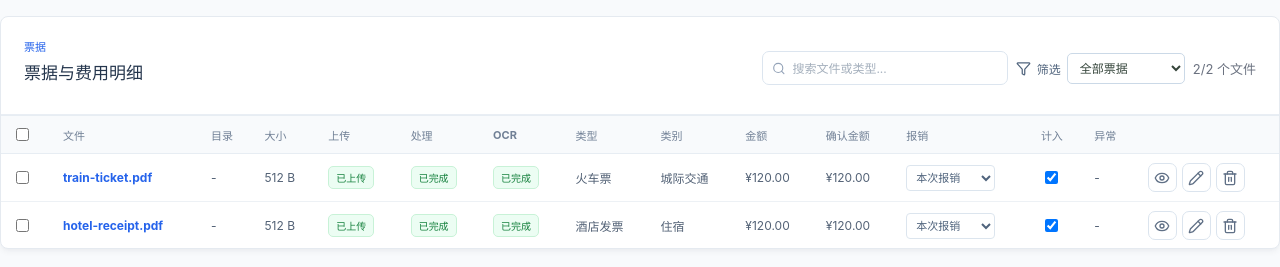
Scenario: DocumentTable reimbursement updates › searches file and invoice metadata before applying the table filter
This screenshot has width=1280, height=267.
Type "hotel" into the field named "搜索票据". click: (895,68)
box: 792,52 -> 998,84
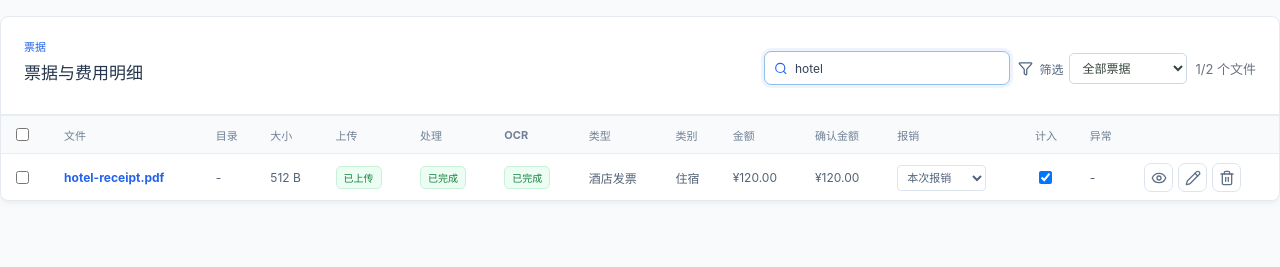
Expected: the text "hotel-receipt.pdf" is shown, 64,170 -> 164,185
Result: the text "train-ticket.pdf" is gone
